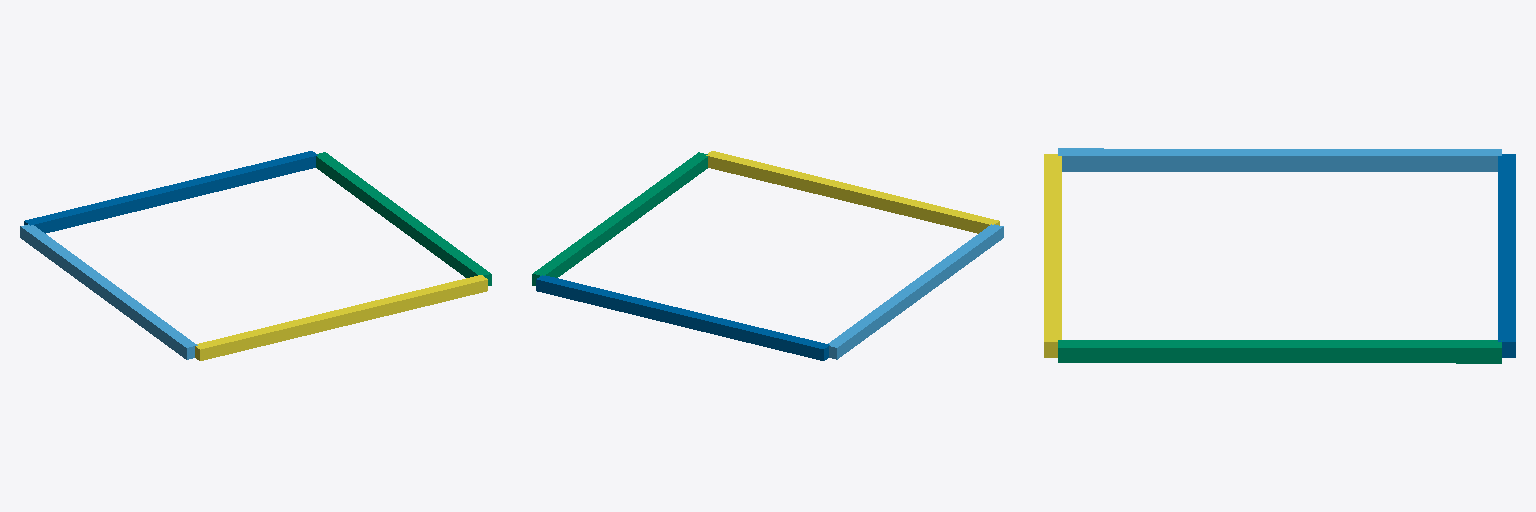
robot.urdf — wall:
<?xml version="1.0" ?>
<robot name="wall">

    <link name="wall_base_link">
        <inertial>
        <mass value="0"/>
        <inertia ixx="0.0" ixy="0.0" ixz="0.0" iyy="0.0" iyz="0.0" izz="0.0"/>
        </inertial>
    </link>

    <link name="x_neg_wall">
        <contact>
            <lateral_friction value="0.5"/>
        </contact>
        <inertial>
            <mass value="0"/>
            <inertia ixx="0" ixy="0" ixz="0" iyy="0" iyz="0" izz="0"/>
        </inertial>
        <visual>
            <geometry>
                <mesh filename="wall51.obj" scale="1 1 1"/>
            </geometry>
        </visual>
        <collision>
            <geometry>
                <mesh filename="wall51.obj" scale="1 1 1"/>
            </geometry>
        </collision>
    </link>

    <link name="x_pos_wall">
        <contact>
            <lateral_friction value="0.5"/>
        </contact>
        <inertial>
            <mass value="0"/>
            <inertia ixx="0" ixy="0" ixz="0" iyy="0" iyz="0" izz="0"/>
        </inertial>
        <visual>
            <geometry>
                <mesh filename="wall51.obj" scale="1 1 1"/>
            </geometry>
        </visual>
        <collision>
            <geometry>
                <mesh filename="wall51.obj" scale="1 1 1"/>
            </geometry>
        </collision>
    </link>

    <link name="y_neg_wall">
        <contact>
            <lateral_friction value="0.5"/>
        </contact>
        <inertial>
            <mass value="0"/>
            <inertia ixx="0" ixy="0" ixz="0" iyy="0" iyz="0" izz="0"/>
        </inertial>
        <visual>
            <geometry>
                <mesh filename="wall51.obj" scale="1 1 1"/>
            </geometry>
        </visual>
        <collision>
            <geometry>
                <mesh filename="wall51.obj" scale="1 1 1"/>
            </geometry>
        </collision>
    </link>

    <link name="y_pos_wall">
        <contact>
            <lateral_friction value="0.5"/>
        </contact>
        <inertial>
            <mass value="0"/>
            <inertia ixx="0" ixy="0" ixz="0" iyy="0" iyz="0" izz="0"/>
        </inertial>
        <visual>
            <geometry>
                <mesh filename="wall51.obj" scale="1 1 1"/>
            </geometry>
        </visual>
        <collision>
            <geometry>
                <mesh filename="wall51.obj" scale="1 1 1"/>
            </geometry>
        </collision>
    </link>

    <joint name="base_to_x_neg_wall" type="fixed">
        <parent link="wall_base_link"/>
        <child link="x_neg_wall"/>
        <origin rpy="0.0 0.0 1.57" xyz="-0.26 0.0 0.0"/>
    </joint>

    <joint name="base_to_x_pos_wall" type="fixed">
        <parent link="wall_base_link"/>
        <child link="x_pos_wall"/>
        <origin rpy="0.0 0.0 1.57" xyz="0.26 0.0 0.0"/>
    </joint>

    <joint name="base_to_y_neg_wall" type="fixed">
        <parent link="wall_base_link"/>
        <child link="y_neg_wall"/>
        <origin rpy="0.0 0.0 0" xyz="0.0 -0.26 0.0"/>
    </joint>

    <joint name="base_to_y_pos_wall" type="fixed">
        <parent link="wall_base_link"/>
        <child link="y_pos_wall"/>
        <origin rpy="0.0 0.0 0" xyz="0.0 0.26 0.0"/>
    </joint>


</robot>

--- Render facts (derived) ---
3 views of the same robot in one strip: view 1: azimuth 30°, elevation 25°; view 2: azimuth 150°, elevation 25°; view 3: azimuth 270°, elevation 25° (orthographic).
Model wall with 5 links and 4 joints (4 fixed), rooted at wall_base_link, posed all joints at 0.
Links seen in each view (by area): view 1: y_neg_wall, y_pos_wall, x_neg_wall, x_pos_wall; view 2: y_pos_wall, y_neg_wall, x_neg_wall, x_pos_wall; view 3: x_pos_wall, x_neg_wall, y_pos_wall, y_neg_wall.
Link boxes in pixels (left/top/right/bottom): y_neg_wall: left=195, top=275, right=487, bottom=360; y_pos_wall: left=24, top=151, right=317, bottom=233; x_neg_wall: left=20, top=224, right=197, bottom=359; x_pos_wall: left=316, top=152, right=491, bottom=285; y_pos_wall: left=536, top=275, right=829, bottom=360; y_neg_wall: left=706, top=151, right=999, bottom=233; x_neg_wall: left=828, top=224, right=1003, bottom=359; x_pos_wall: left=532, top=152, right=707, bottom=285; x_pos_wall: left=1058, top=340, right=1501, bottom=363; x_neg_wall: left=1058, top=148, right=1501, bottom=171; y_pos_wall: left=1498, top=154, right=1515, bottom=357; y_neg_wall: left=1044, top=154, right=1061, bottom=357.
Bounding box of the posed robot: 0.5404 × 0.54 × 0.02 m (x, y, z).
4 mesh visuals loaded from 1 distinct referenced files (1 OBJ).
